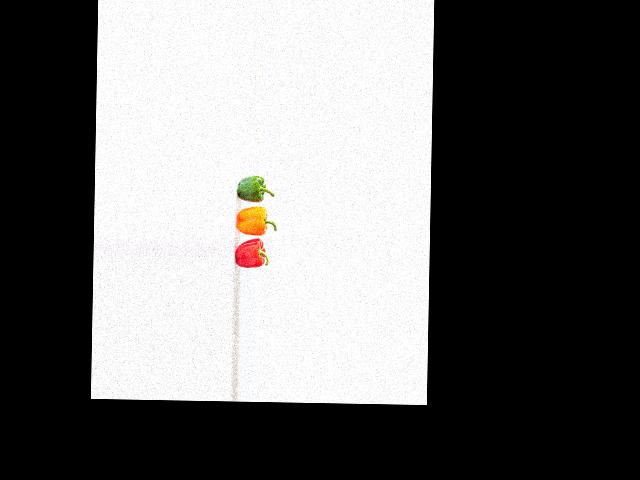bell_pepper: (235, 237, 276, 270)
